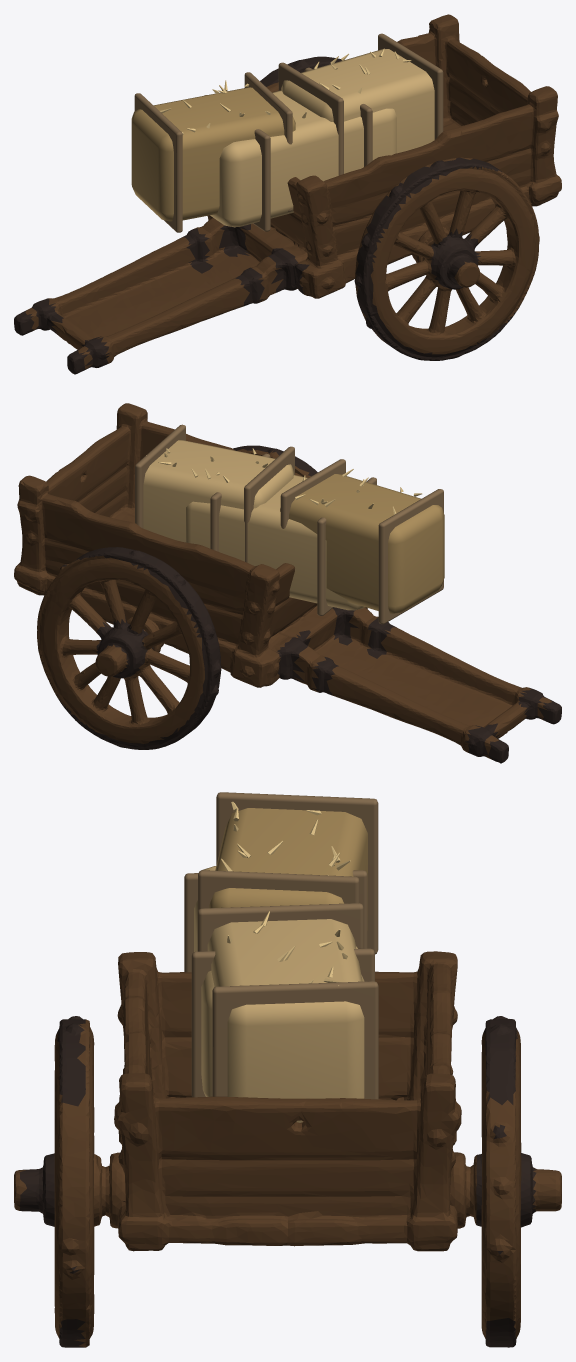
Rendered from carroca_feno.glb.
The picture shows the model from 3 angles, top to bottom: view 1: azimuth 30°, elevation 25°; view 2: azimuth 150°, elevation 25°; view 3: azimuth 270°, elevation 25°; orthographic projection. The views are drawn at different scales.
Parts seen in each view (by area): view 1: Carroça original | tmp7zfbmskp.ply, Fardo traseiro, Fardo central, Fardo frontal, Fardo traseiro | amarra, Fardo frontal | amarra, Fardo frontal | amarra.001, Fardo central | amarra, Fardo traseiro | amarra.001, Fardo central | amarra.001; view 2: Carroça original | tmp7zfbmskp.ply, Fardo traseiro, Fardo frontal, Fardo central, Fardo traseiro | amarra, Fardo frontal | amarra, Fardo frontal | amarra.001, Fardo traseiro | amarra.001, Fardo central | amarra, Fardo central | amarra.001; view 3: Carroça original | tmp7zfbmskp.ply, Fardo frontal, Fardo traseiro, Fardo frontal | amarra.001, Fardo traseiro | amarra, Fardo frontal | amarra, Fardo traseiro | amarra.001, Fardo central | amarra.001, Fardo central, Fardo central | amarra.
Part boxes in pixels (x1,y1,x2,y2): Carroça original | tmp7zfbmskp.ply: (14,14,561,374); Fardo traseiro: (131,87,295,221); Fardo central: (210,90,396,227); Fardo frontal: (281,49,434,153); Fardo traseiro | amarra: (134,93,182,232); Fardo frontal | amarra: (278,62,343,175); Fardo frontal | amarra.001: (378,33,443,139); Fardo central | amarra: (204,95,270,231); Fardo traseiro | amarra.001: (244,72,292,211); Fardo central | amarra.001: (304,67,372,166); Carroça original | tmp7zfbmskp.ply: (14,403,561,763); Fardo traseiro: (280,474,444,613); Fardo frontal: (143,440,293,542); Fardo central: (186,475,364,610); Fardo traseiro | amarra: (378,489,443,624); Fardo frontal | amarra: (244,446,294,562); Fardo frontal | amarra.001: (135,424,185,528); Fardo traseiro | amarra.001: (280,459,345,528); Fardo central | amarra: (317,477,376,615); Fardo central | amarra.001: (210,453,270,551); Carroça original | tmp7zfbmskp.ply: (14,951,561,1347); Fardo frontal: (207,919,364,1122); Fardo traseiro: (209,808,367,930); Fardo frontal | amarra.001: (212,981,378,1099); Fardo traseiro | amarra: (216,792,378,954); Fardo frontal | amarra: (197,903,363,951); Fardo traseiro | amarra.001: (198,870,359,910); Fardo central | amarra.001: (191,948,374,1097); Fardo central: (194,866,364,1096); Fardo central | amarra: (184,870,367,972).
Size of the model in its own units: 1.96 by 0.9874 by 1.3.
